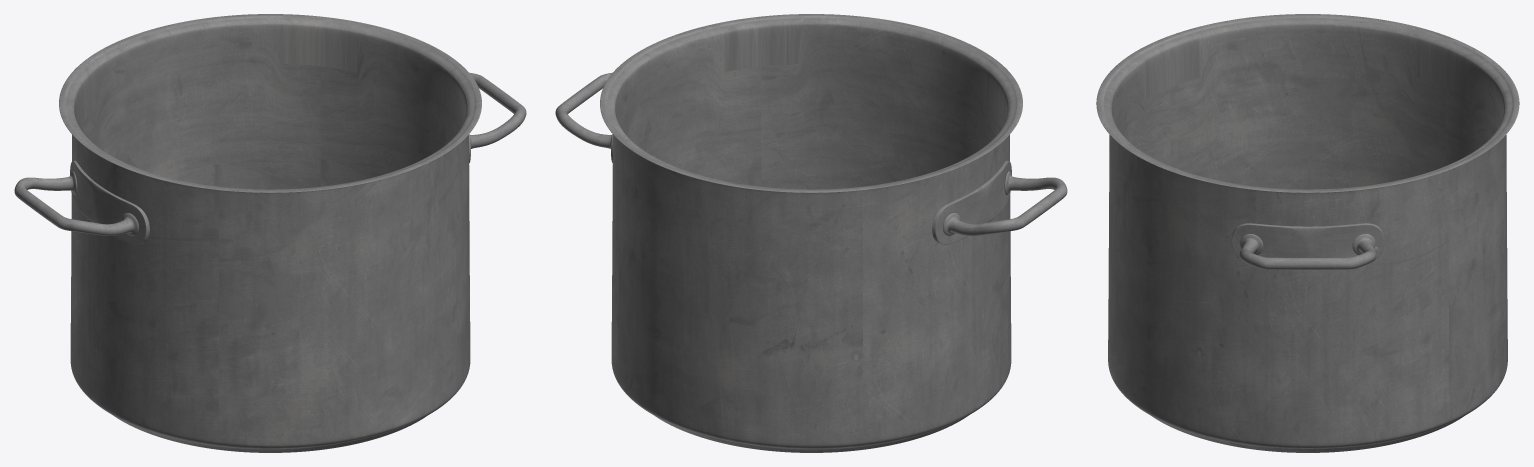
File: obj_pot_ed137b.glb
The picture shows the model from 3 angles, left to right: view 1: azimuth 30°, elevation 25°; view 2: azimuth 150°, elevation 25°; view 3: azimuth 270°, elevation 25°; orthographic projection.
Parts seen in each view (by area): view 1: obj_pot_ed137b; view 2: obj_pot_ed137b; view 3: obj_pot_ed137b.
Part boxes in pixels (box(x1,y1,x2,y2)): obj_pot_ed137b: box(14, 14, 526, 452); obj_pot_ed137b: box(555, 14, 1067, 452); obj_pot_ed137b: box(1096, 14, 1519, 452).
Bounding box in the file's own units: 0.35 × 0.1997 × 0.2735.
Materials: 2 (2 with a texture image).
